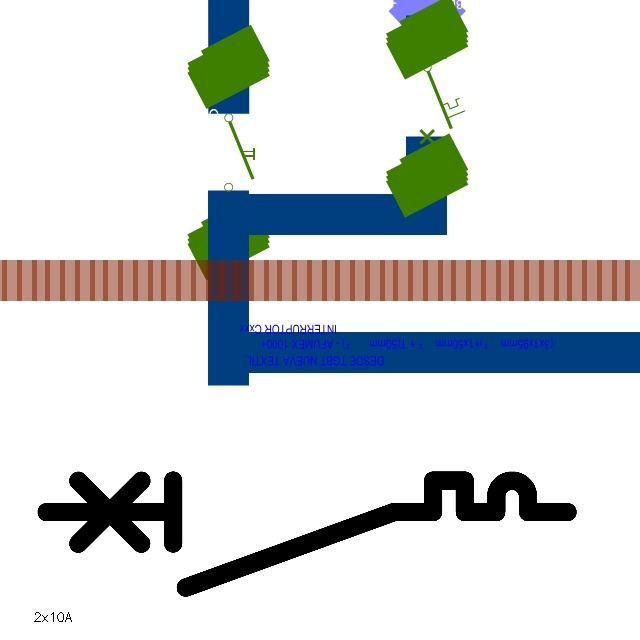interruptor_termomagnetico: (33, 467, 581, 601)
